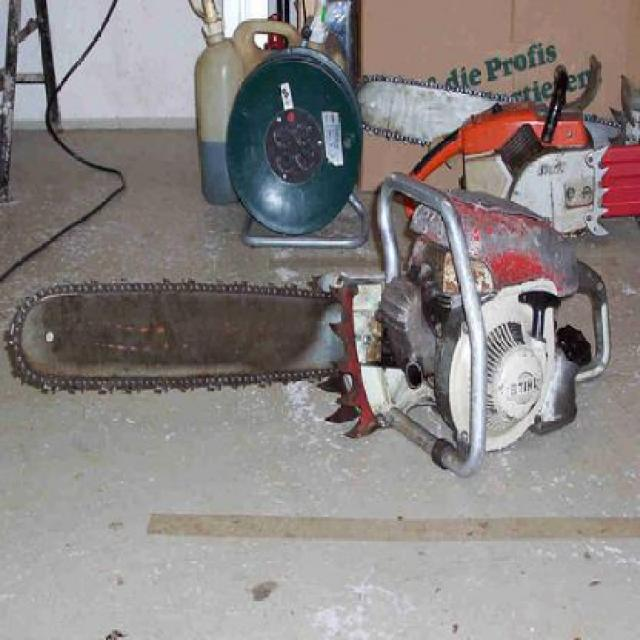Chainsaw: (5, 178, 608, 477), (357, 72, 640, 240)
